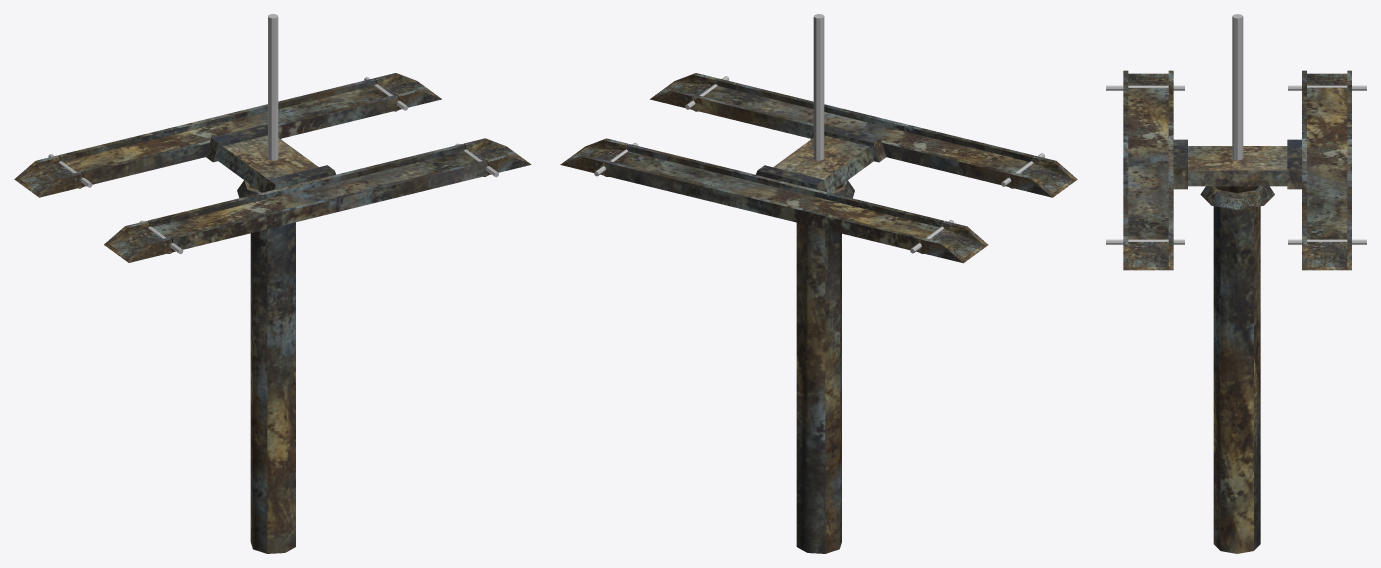
File: machines_carlift.dae
3 views of the same model, side by side, from view 1: azimuth 30°, elevation 25°; view 2: azimuth 150°, elevation 25°; view 3: azimuth 270°, elevation 25° (orthographic).
Parts seen in each view (by area): view 1: main, ramp1, ramp3, _joint_slider_main_mount_0_220_nocollide_joint1, ramp2, ramp4; view 2: main, ramp1, ramp3, _joint_slider_main_mount_0_220_nocollide_joint1, ramp4, ramp2; view 3: main, _joint_slider_main_mount_0_220_nocollide_joint1, ramp4, ramp2, mount, ramp3, ramp1.
Boxes of the visible parts, bbox=[...] form: main: bbox=[58, 78, 488, 553]; ramp1: bbox=[14, 155, 82, 197]; ramp3: bbox=[104, 221, 171, 262]; _joint_slider_main_mount_0_220_nocollide_joint1: bbox=[268, 14, 278, 160]; ramp2: bbox=[374, 73, 441, 109]; ramp4: bbox=[463, 138, 531, 175]; main: bbox=[603, 78, 1033, 553]; ramp1: bbox=[920, 221, 988, 263]; ramp3: bbox=[1009, 155, 1077, 197]; _joint_slider_main_mount_0_220_nocollide_joint1: bbox=[813, 14, 824, 160]; ramp4: bbox=[650, 73, 717, 109]; ramp2: bbox=[560, 138, 628, 175]; main: bbox=[1123, 82, 1351, 553]; _joint_slider_main_mount_0_220_nocollide_joint1: bbox=[1232, 14, 1243, 160]; ramp4: bbox=[1123, 236, 1173, 270]; ramp2: bbox=[1302, 236, 1351, 270]; mount: bbox=[1200, 186, 1274, 210]; ramp3: bbox=[1123, 70, 1173, 85]; ramp1: bbox=[1302, 70, 1351, 85].
Size of what is drawn, in the model's own units: 3.56 by 4.45 by 1.99.
